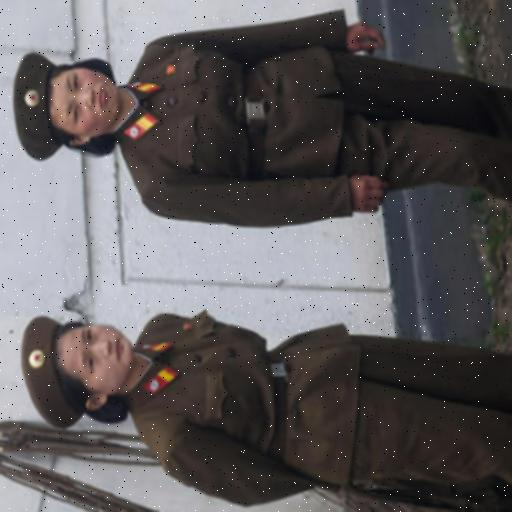north army: (2, 11, 512, 253), (0, 272, 512, 512)
